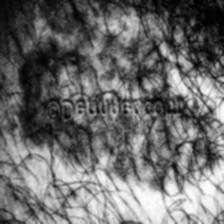Toxin: (38, 0, 88, 48), (126, 42, 167, 90)
